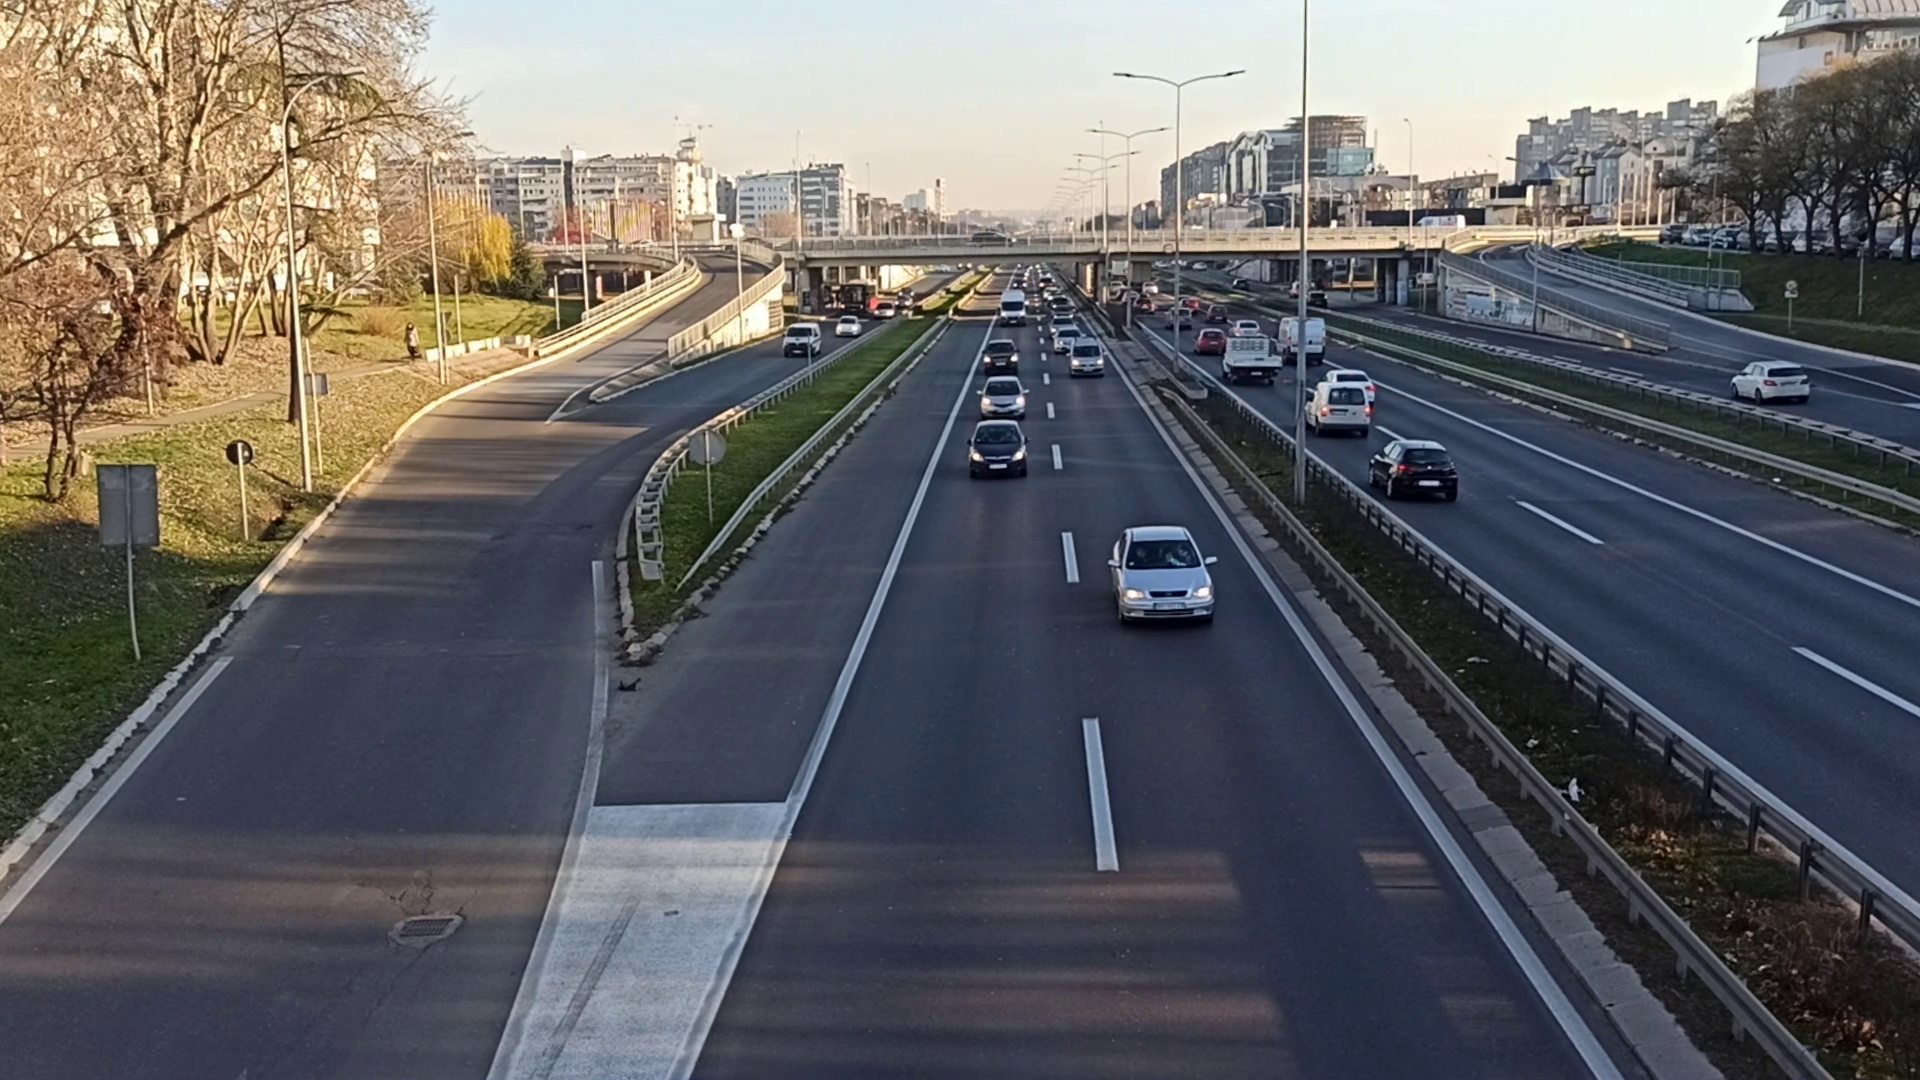car: (1104, 522, 1220, 632), (1370, 436, 1458, 502), (964, 417, 1029, 481), (1733, 360, 1811, 404), (978, 375, 1026, 411), (982, 335, 1022, 373), (782, 320, 822, 355), (1069, 339, 1102, 377), (840, 316, 860, 336)
